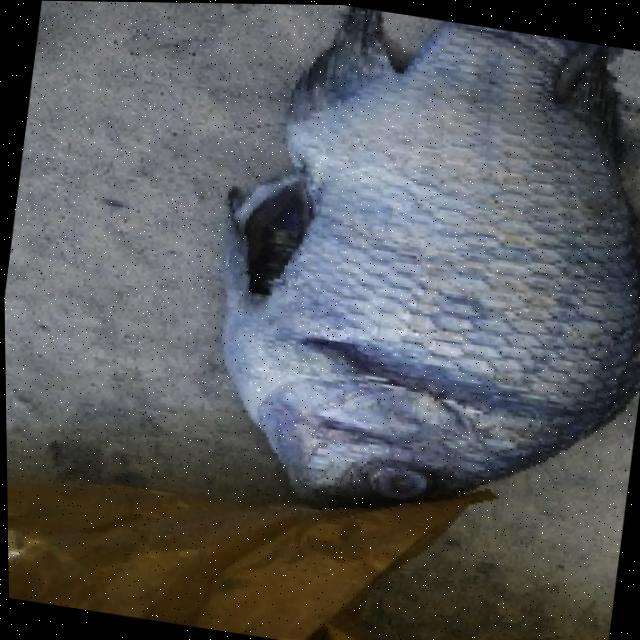Non-Fresh: (174, 2, 640, 556)
